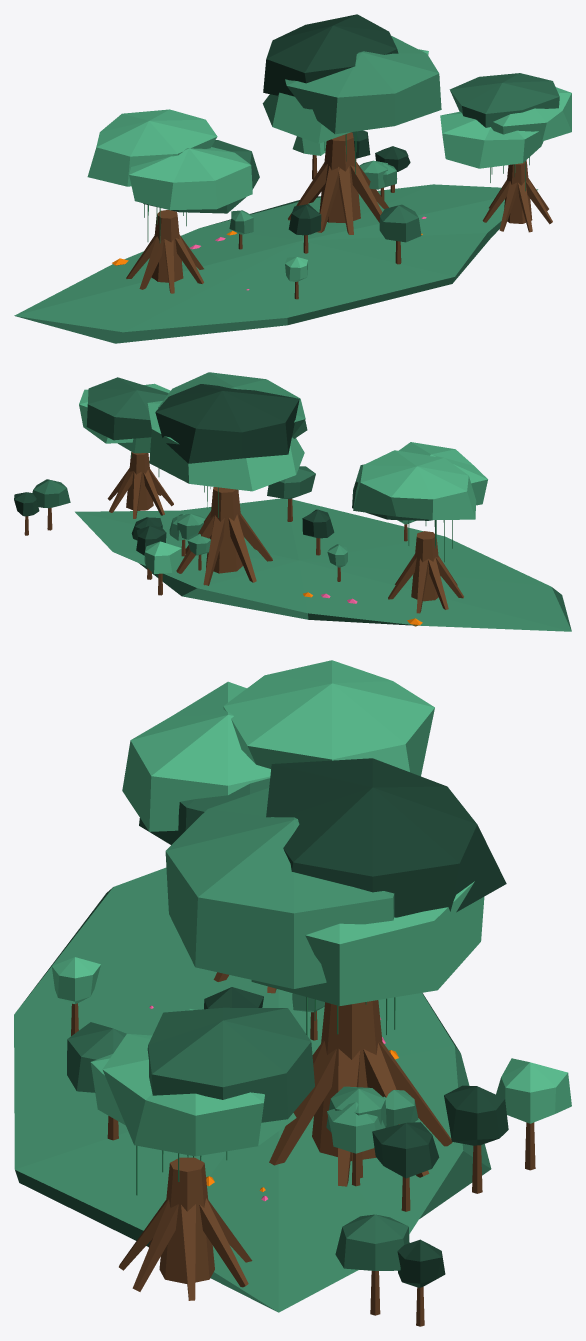
Rendered from W3_Mid_FigTrees.fbx.
3 views of the same model, one above another, from view 1: azimuth 30°, elevation 25°; view 2: azimuth 150°, elevation 25°; view 3: azimuth 270°, elevation 25° (orthographic). The views are drawn at different scales.
Visible parts, largest first — view 1: W3_Mid_FigTrees; view 2: W3_Mid_FigTrees; view 3: W3_Mid_FigTrees.
Part boxes in pixels (x1,y1,x2,y2): W3_Mid_FigTrees: [14, 14, 571, 343]; W3_Mid_FigTrees: [14, 372, 571, 631]; W3_Mid_FigTrees: [14, 660, 571, 1326].
Size of the model in its own units: 131 by 44.82 by 61.03.
